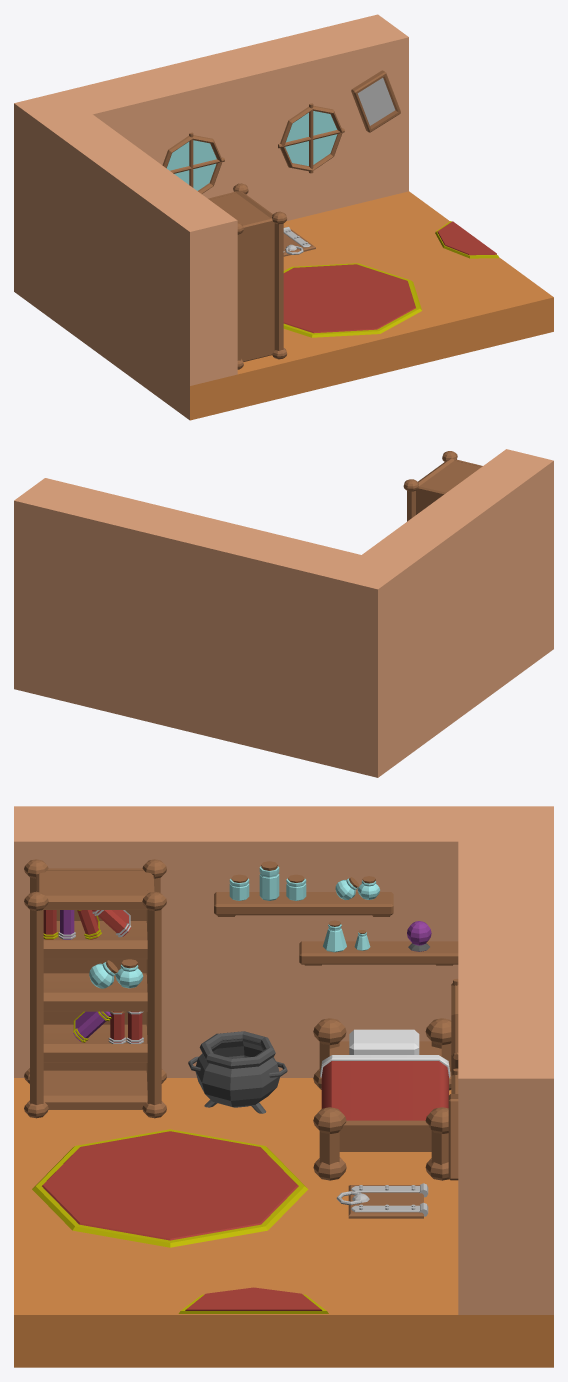
The model's file is huisje binnen kleur.fbx.
3 views of the same model, one above another, from view 1: azimuth 30°, elevation 25°; view 2: azimuth 150°, elevation 25°; view 3: azimuth 270°, elevation 25° (orthographic). The views are drawn at different scales.
Parts seen in each view (by area): view 1: kamer, tapijt, polySurface24, schilderij, pCylinder20, raam1, pCylinder21, polySurface41, raam2, luikje; view 2: kamer, polySurface24; view 3: kamer, polySurface24, tapijt, bed, cauldron, plank_boven, plank_onder, polySurface41, luikje, schilderij, book2, pot_lang (+1 smaller).
Part boxes in pixels (bbox=[...]): kamer: bbox=[14, 14, 553, 420]; tapijt: bbox=[283, 263, 421, 337]; polySurface24: bbox=[208, 183, 287, 369]; schilderij: bbox=[351, 70, 400, 132]; pCylinder20: bbox=[285, 111, 337, 165]; raam1: bbox=[278, 103, 344, 173]; pCylinder21: bbox=[166, 140, 216, 190]; polySurface41: bbox=[435, 221, 498, 258]; raam2: bbox=[162, 132, 224, 193]; luikje: bbox=[283, 226, 315, 256]; kamer: bbox=[14, 449, 553, 777]; polySurface24: bbox=[403, 451, 482, 521]; kamer: bbox=[14, 806, 553, 1367]; polySurface24: bbox=[24, 859, 166, 1118]; tapijt: bbox=[32, 1129, 308, 1247]; bed: bbox=[313, 1018, 451, 1180]; cauldron: bbox=[188, 1031, 287, 1113]; plank_boven: bbox=[214, 892, 393, 916]; plank_onder: bbox=[299, 941, 458, 965]; polySurface41: bbox=[178, 1287, 328, 1313]; luikje: bbox=[336, 1183, 428, 1218]; schilderij: bbox=[448, 1094, 458, 1180]; book2: bbox=[73, 1011, 111, 1042]; pot_lang: bbox=[259, 861, 279, 900].
Bounding box in the file's own units: 3.01 × 1.49 × 2.52.
